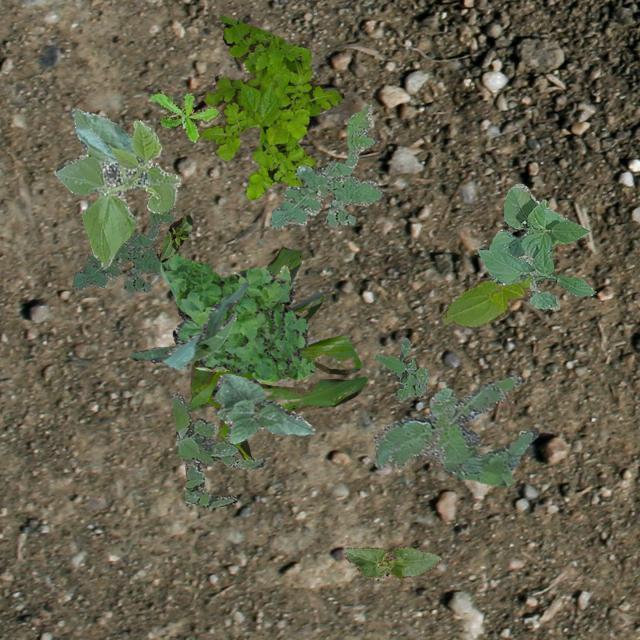crop: (188, 246, 366, 458), (54, 108, 180, 268), (476, 182, 594, 308), (128, 280, 248, 368), (194, 264, 290, 370), (440, 244, 554, 326), (210, 372, 314, 442), (342, 546, 440, 578), (156, 212, 192, 260)
weed: (198, 15, 342, 198), (159, 252, 313, 384), (372, 374, 538, 486), (268, 104, 381, 228), (170, 392, 266, 508), (72, 208, 174, 292), (374, 336, 428, 401), (150, 92, 217, 142)
